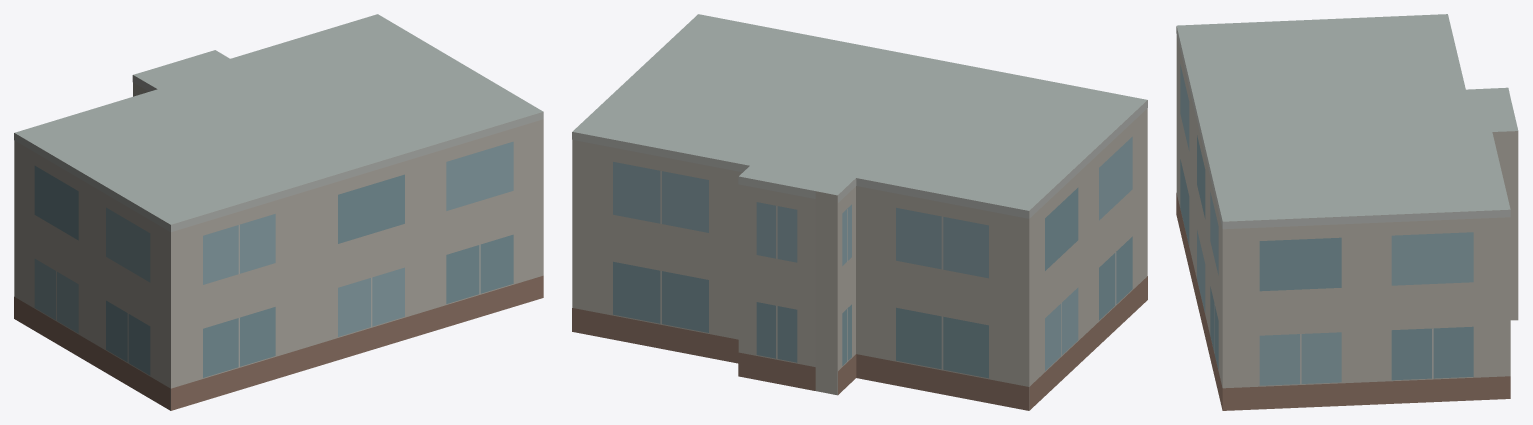
The model's file is survey-upis-32780422.glb.
The picture shows the model from 3 angles, left to right: view 1: azimuth 30°, elevation 25°; view 2: azimuth 150°, elevation 25°; view 3: azimuth 270°, elevation 25°; orthographic projection. The views are drawn at different scales.
Parts seen in each view (by area): view 1: survey-upis-32780422.tmp; view 2: survey-upis-32780422.tmp; view 3: survey-upis-32780422.tmp.
Part boxes in pixels (x1,y1,x2,y2): survey-upis-32780422.tmp: (14,14,543,410); survey-upis-32780422.tmp: (572,14,1147,410); survey-upis-32780422.tmp: (1176,14,1518,410).
Size of the model in its own units: 14.38 by 6.1 by 10.01.
